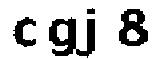8: (113, 6, 151, 51)
c: (12, 16, 38, 48)
g: (47, 13, 78, 60)
j: (77, 4, 98, 60)
